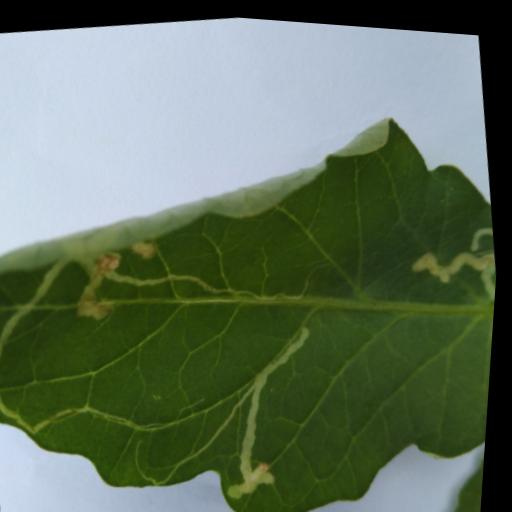Leaf_Miner: (0, 77, 508, 512)
